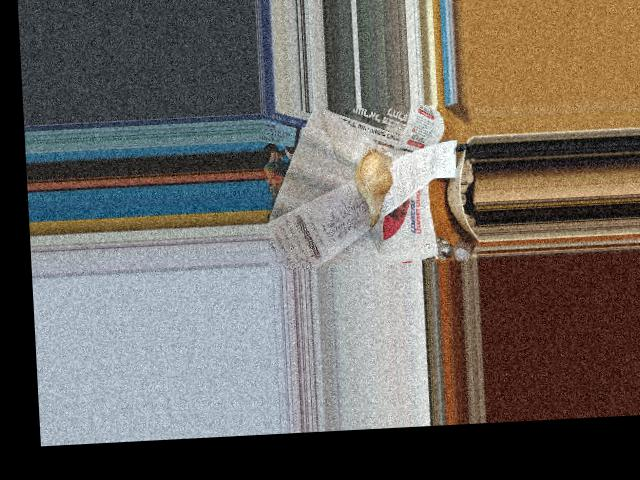onion: (353, 149, 394, 217)
